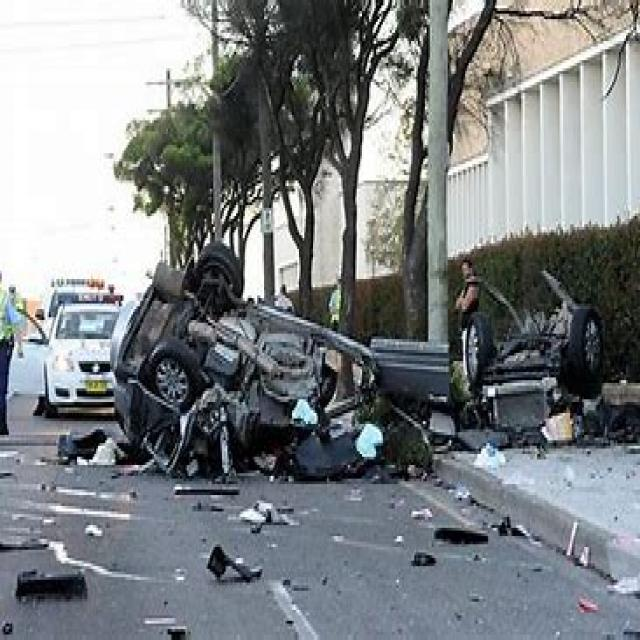Accident: (90, 141, 603, 541)
